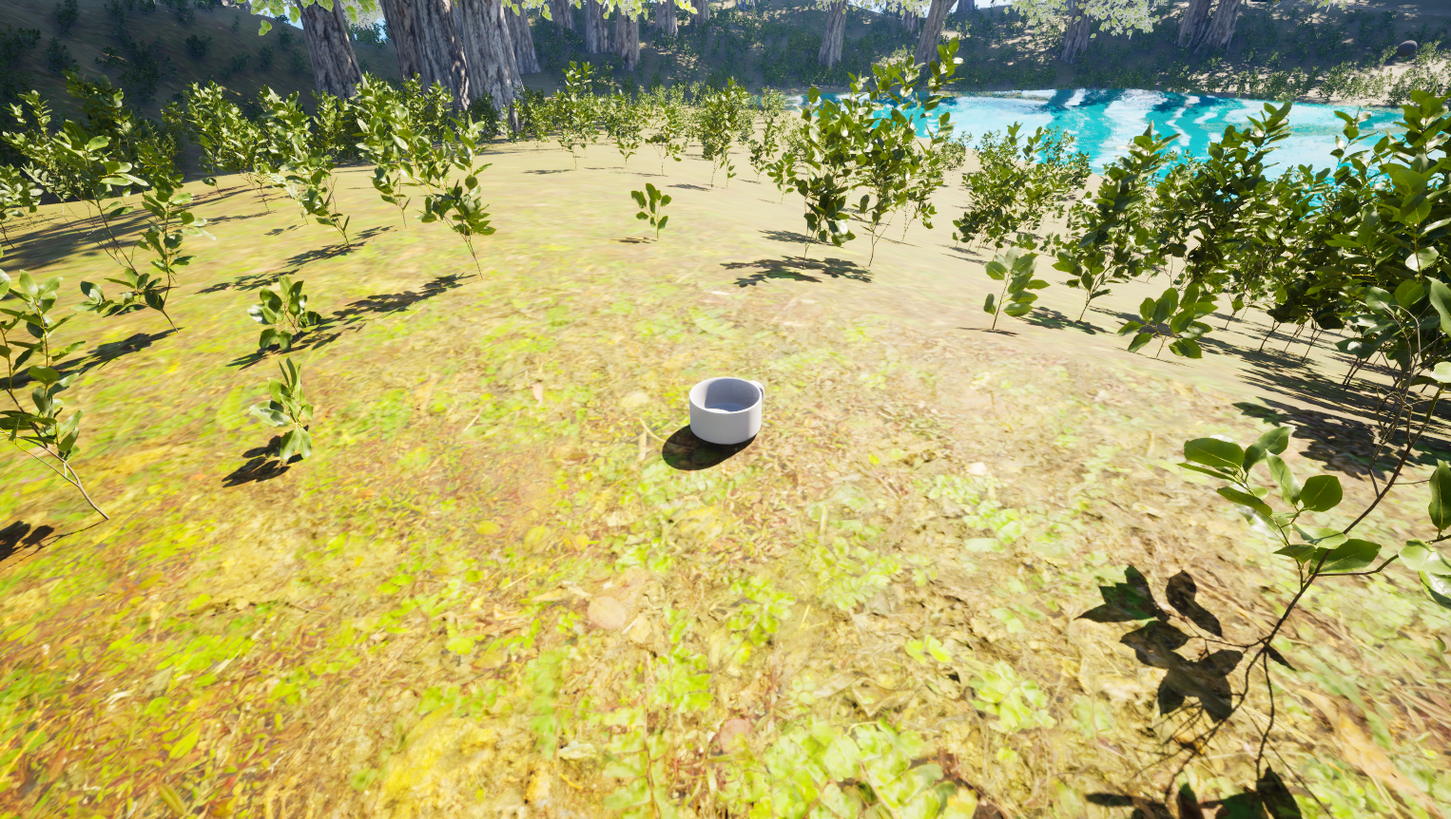Teacup: (684, 373, 782, 449)
